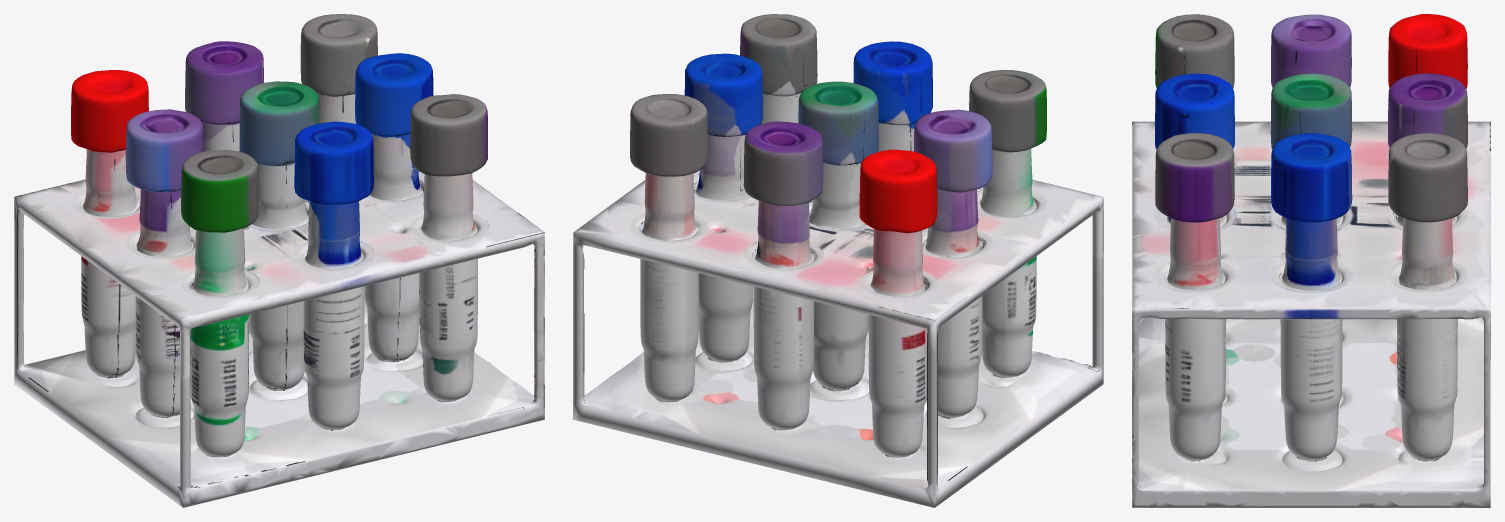
Rendered from vet_equip_test_tubes.glb.
3 renders of one model, left to right at view 1: azimuth 30°, elevation 25°; view 2: azimuth 150°, elevation 25°; view 3: azimuth 270°, elevation 25°, orthographic. The views are drawn at different scales.
Parts seen in each view (by area): view 1: model; view 2: model; view 3: model.
Part boxes in pixels (x1,y1,x2,y2): model: [14, 14, 544, 507]; model: [573, 14, 1103, 507]; model: [1132, 14, 1490, 507].
Bounding box in the file's own units: 1.9 × 1.54 × 1.54.
1 material, 1 textured.
